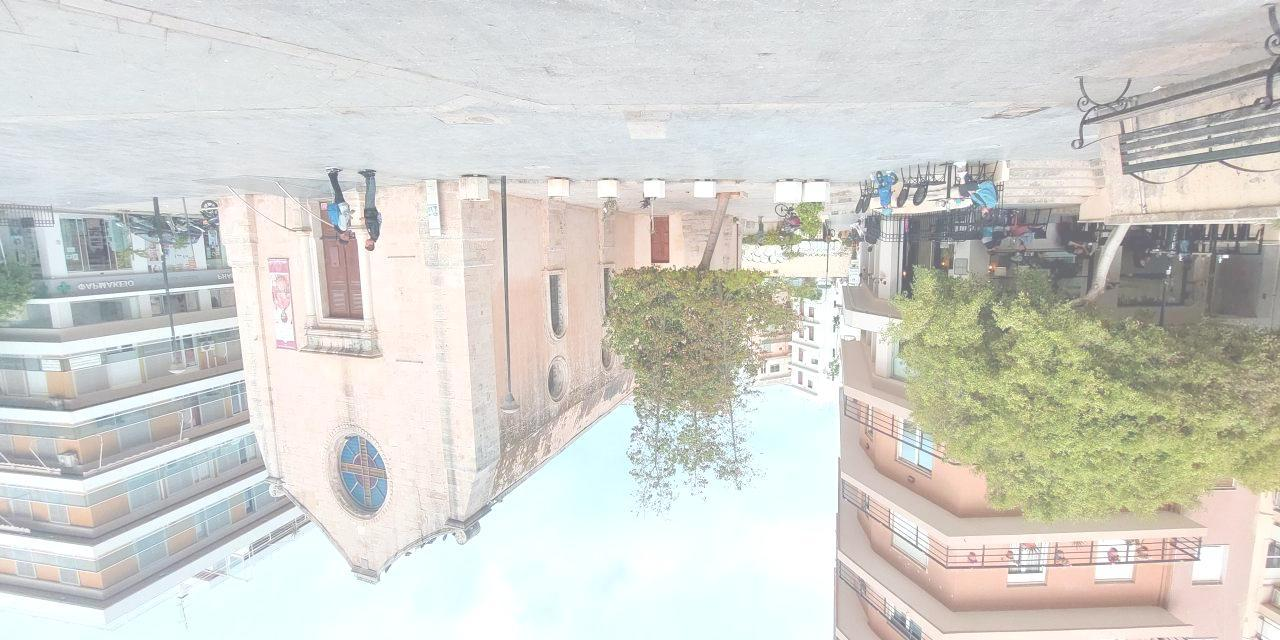Agia Aikaterini: (205, 178, 653, 583)
